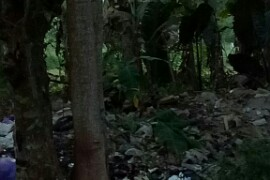trash: (1, 89, 268, 178)
